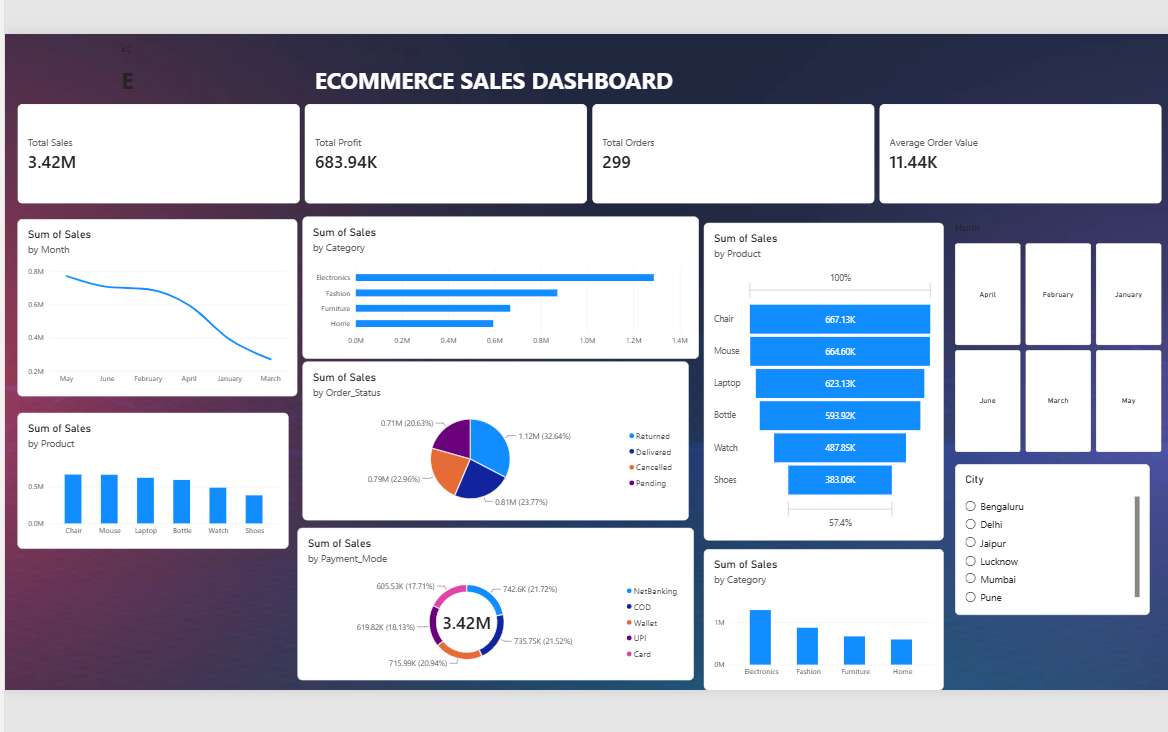

Layout of this report page (visuals, bound fields, positions):
{"tool":"powerbi","page":{"name":"Page 1","canvas":[1920,1080],"ordinal":0},"visuals":[{"type":"cardVisual","fields":{"Data":["Dax Measure.Total Sales","Dax Measure.Total Profit","Dax Measure.Total Orders","Dax Measure.Average Order Value"]},"box":[20.6,115.3,1885.4,164.7],"z":0},{"type":"textbox","box":[150,301.5,300,150],"z":1},{"type":"textbox","box":[191.4,14.4,1171.2,121.4],"z":2},{"type":"lineChart","fields":{"Category":["ecommerce orders.Month"],"Y":["Sum(ecommerce orders.Sales)"]},"box":[20.6,304.6,461.1,292.3],"z":3},{"type":"columnChart","fields":{"Category":["ecommerce orders.Product"],"Y":["Sum(ecommerce orders.Sales)"]},"box":[20.6,623.7,446.7,224.4],"z":5},{"type":"donutChart","fields":{"Category":["ecommerce orders.Payment_Mode"],"Y":["Sum(ecommerce orders.Sales)"]},"box":[481.6,813,652.5,251.1],"z":6},{"type":"pieChart","fields":{"Category":["ecommerce orders.Order_Status"],"Y":["Sum(ecommerce orders.Sales)"]},"box":[489.9,539.3,636,261.4],"z":7},{"type":"clusteredBarChart","fields":{"Category":["ecommerce orders.Category"],"Y":["Sum(ecommerce orders.Sales)"]},"box":[489.9,300.5,652.5,234.6],"z":8},{"type":"funnel","fields":{"Category":["ecommerce orders.Product"],"Y":["Sum(ecommerce orders.Sales)"]},"box":[1150.6,310.8,395.2,522.8],"z":9},{"type":"columnChart","fields":{"Category":["ecommerce orders.Category"],"Y":["Sum(ecommerce orders.Sales)"]},"box":[1150.6,848,395.2,232.6],"z":10},{"type":"advancedSlicerVisual","fields":{"Values":["ecommerce orders.Month"]},"box":[1564.3,310.8,341.7,378.7],"z":11},{"type":"listSlicer","fields":{"Values":["ecommerce orders.City"]},"box":[1564.3,708.1,321.1,249.1],"z":12}]}

Visuals, with their boxes in screenshot pixels (x1, y1, x2, y2):
cardVisual - Dax Measure.Total Sales x Dax Measure.Total Profit: bbox(4, 96, 1167, 198)
textbox: bbox(84, 212, 271, 305)
textbox: bbox(110, 33, 838, 109)
lineChart - ecommerce orders.Month x Sum(ecommerce orders.Sales): bbox(4, 214, 290, 396)
columnChart - ecommerce orders.Product x Sum(ecommerce orders.Sales): bbox(4, 412, 282, 552)
donutChart - ecommerce orders.Payment_Mode x Sum(ecommerce orders.Sales): bbox(290, 530, 696, 686)
pieChart - ecommerce orders.Order_Status x Sum(ecommerce orders.Sales): bbox(296, 360, 691, 522)
clusteredBarChart - ecommerce orders.Category x Sum(ecommerce orders.Sales): bbox(296, 211, 701, 357)
funnel - ecommerce orders.Product x Sum(ecommerce orders.Sales): bbox(707, 218, 952, 543)
columnChart - ecommerce orders.Category x Sum(ecommerce orders.Sales): bbox(707, 552, 952, 696)
advancedSlicerVisual - ecommerce orders.Month: bbox(964, 218, 1167, 453)
listSlicer - ecommerce orders.City: bbox(964, 465, 1164, 620)
